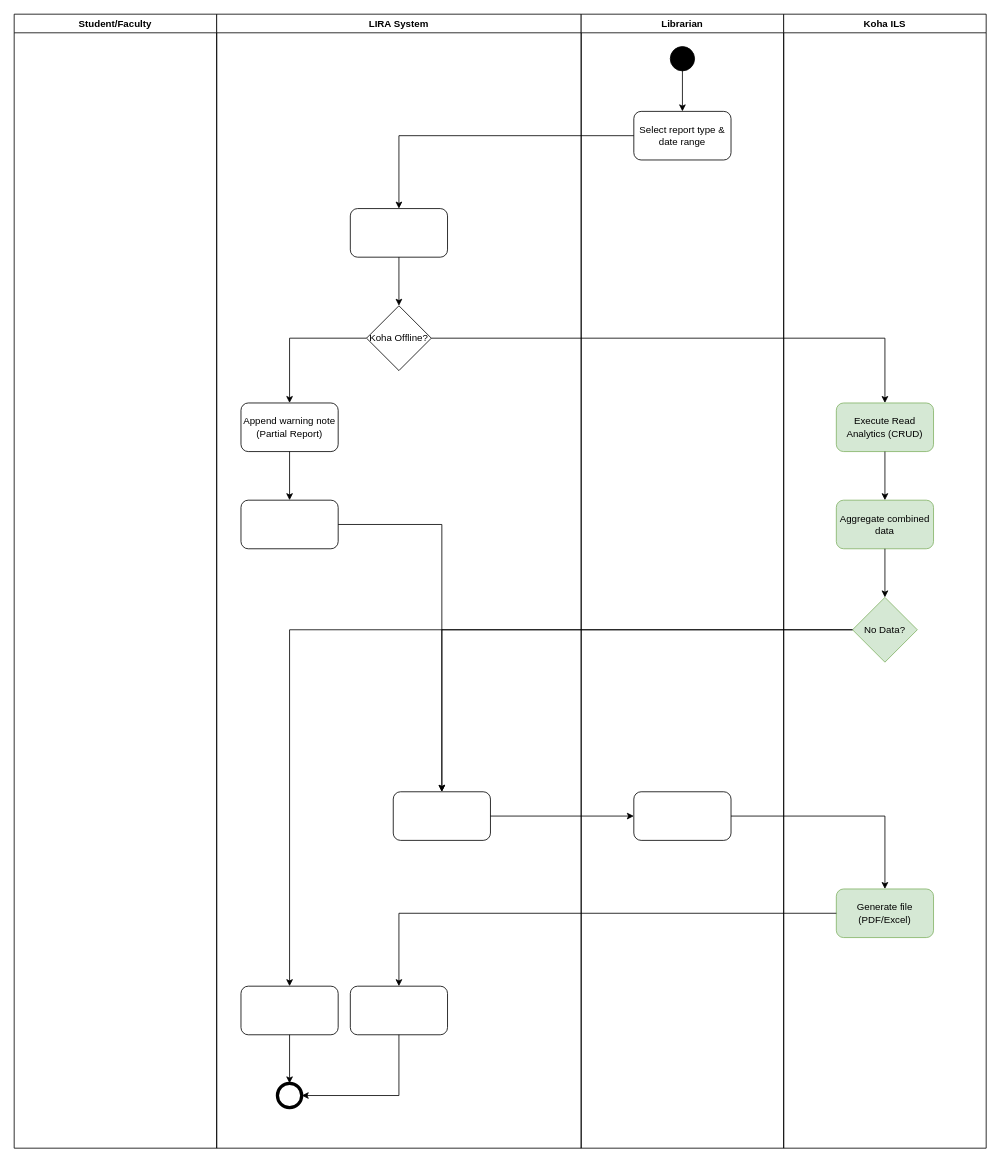
Some shapes in this 1000 by 1162 pixel diagram are drawn without their labels. The shapes that lost their labels are listed below. From the top down, each one's centre as x and y in pixels, then its label:
At point (399, 232): "Request usage & circulation data".
At point (289, 524): "Aggregate local LIRA data".
At point (441, 815): "Display report preview".
At point (682, 815): "Click to export report".
At point (289, 1010): "Output empty report notification".
At point (399, 1010): "Provide file to user".
